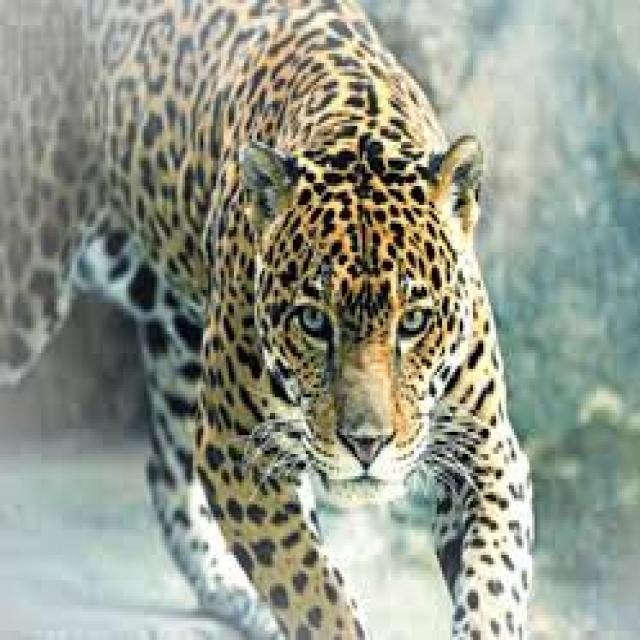Jaguar: (5, 0, 545, 640)
